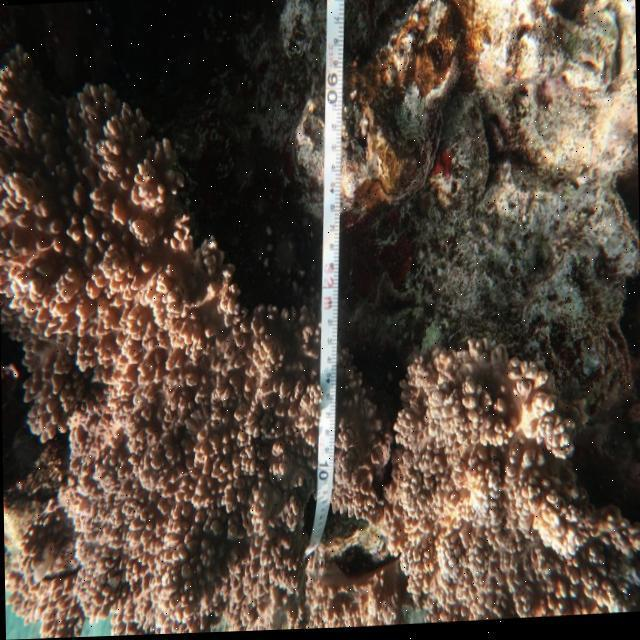Healthy Coral: (1, 360, 397, 640), (0, 27, 297, 365), (395, 352, 640, 626)
